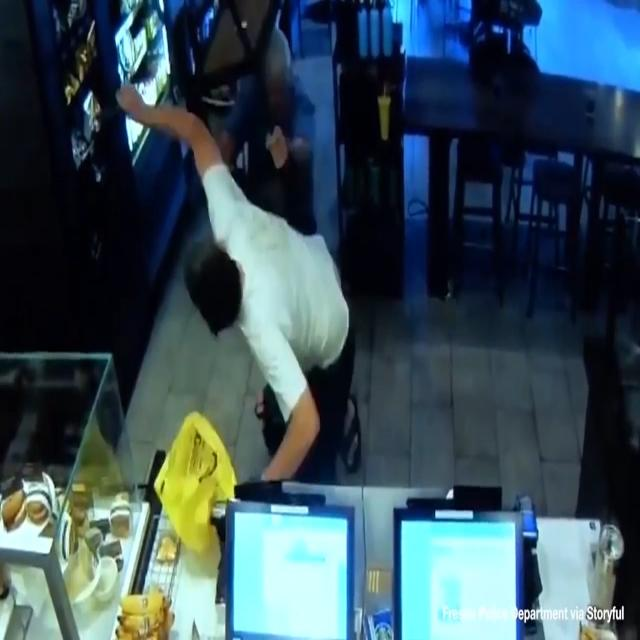fight: (124, 0, 431, 524)
